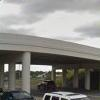Bridge: (7, 21, 92, 83)
